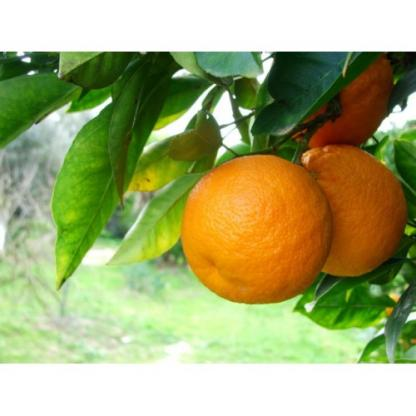orange: (178, 150, 337, 307), (272, 143, 405, 291)
